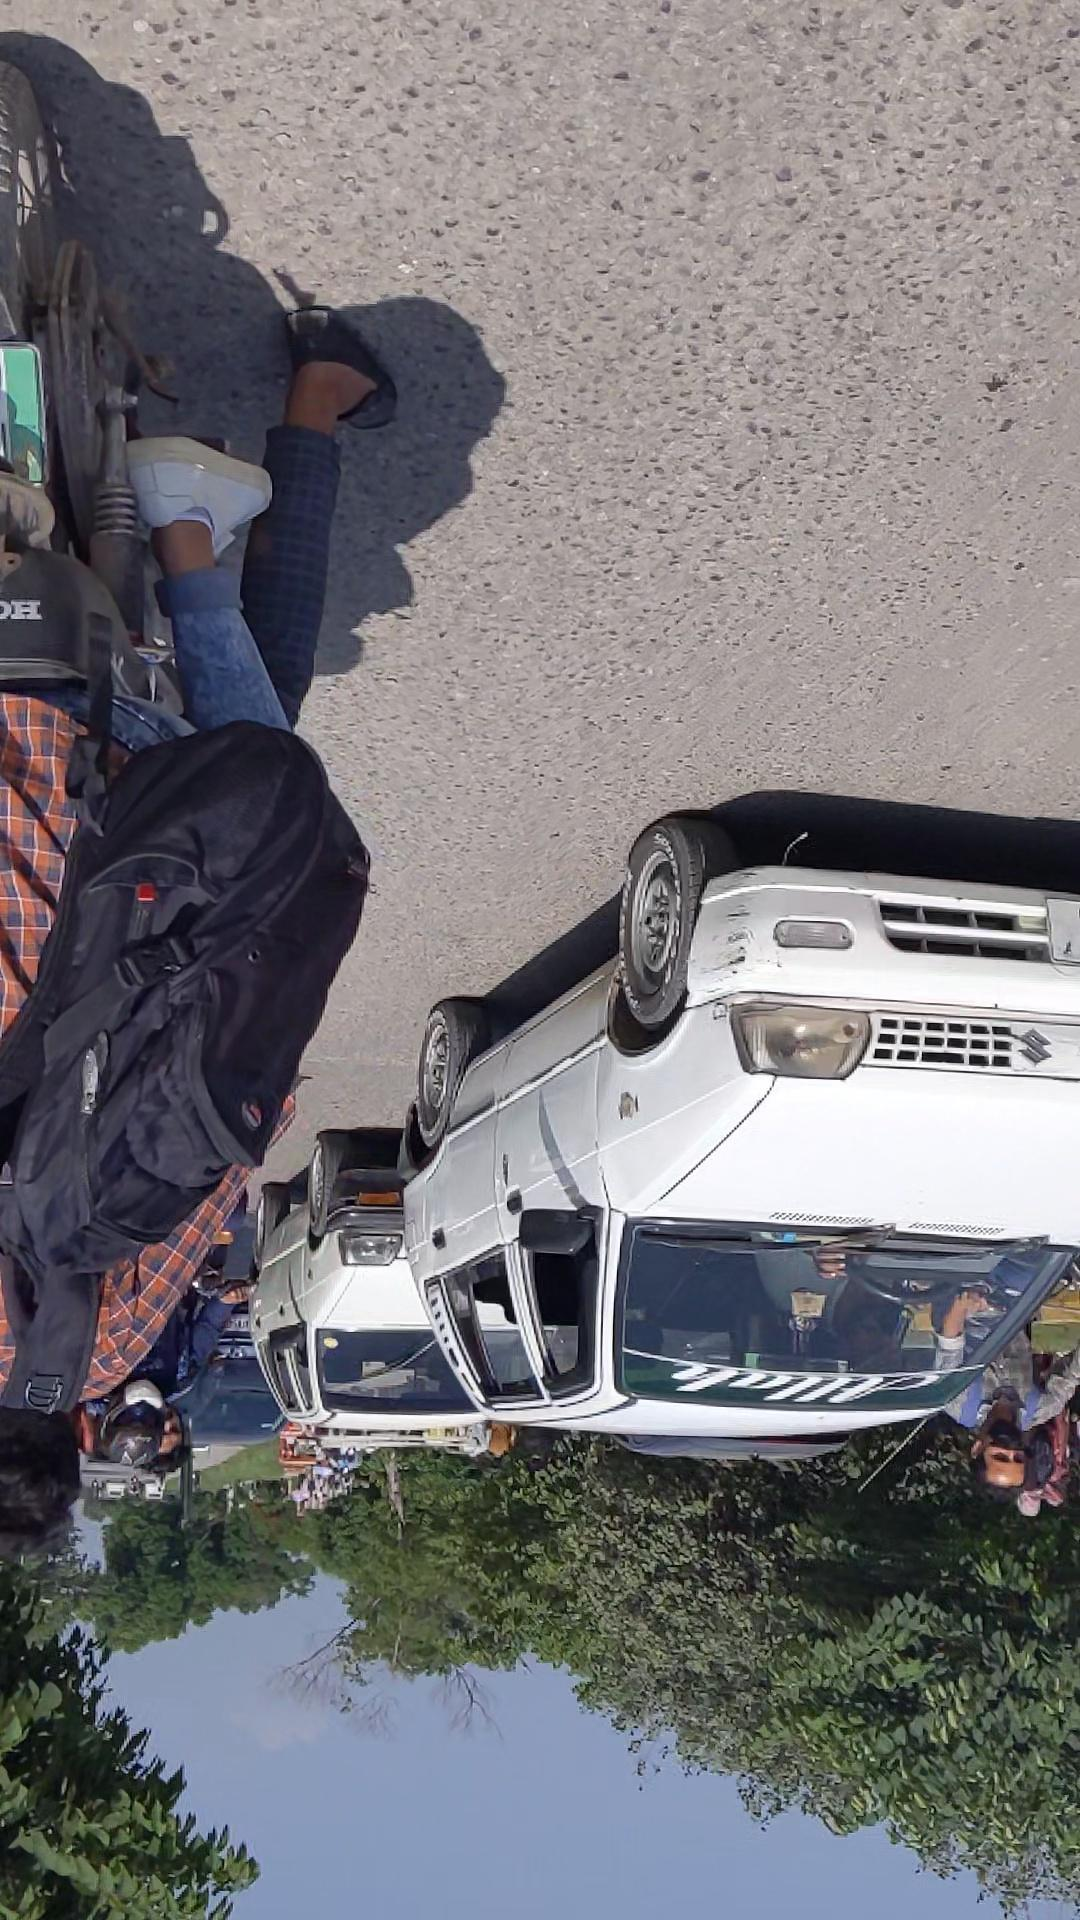windshield: (16, 500, 476, 715)
